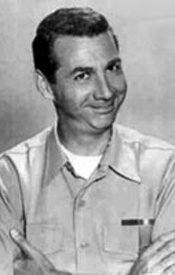bad: (63, 47, 137, 121)
